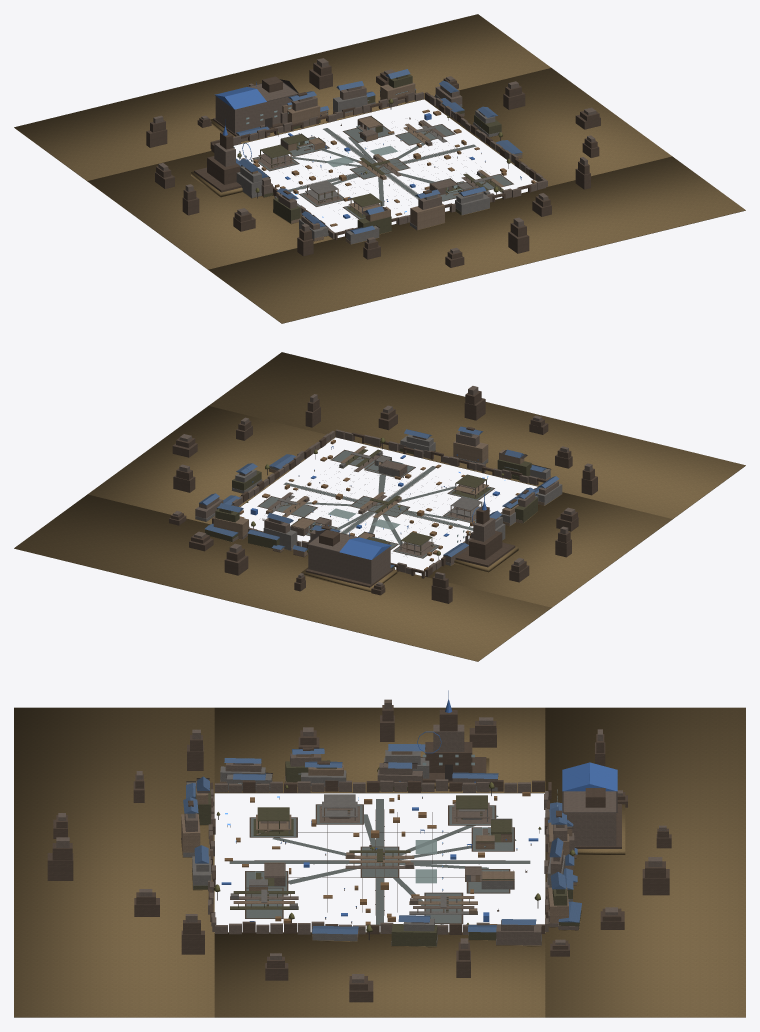
The model's file is onsengai-lod1.glb.
3 views of the same model, one above another, from view 1: azimuth 30°, elevation 25°; view 2: azimuth 150°, elevation 25°; view 3: azimuth 270°, elevation 25° (orthographic). The views are drawn at different scales.
Visible parts, largest first — view 1: HB_onsengai_LOD1_terrain, HB_onsengai_LOD1_wall_alt, HB_onsengai_LOD1_wall, HB_onsengai_LOD1_wall_cool, HB_onsengai_LOD1_road, HB_onsengai_LOD1_wall_warm, HB_onsengai_LOD1_wall_weathered, HB_onsengai_LOD1_roof, HB_onsengai_LOD1_LANDMARK_0_wall, HB_onsengai_LOD1_LANDMARK_1_wall_alt, HB_onsengai_LOD1_obstacle, HB_onsengai_LOD1_LANDMARK_0_accent; view 2: HB_onsengai_LOD1_terrain, HB_onsengai_LOD1_wall_alt, HB_onsengai_LOD1_wall, HB_onsengai_LOD1_wall_cool, HB_onsengai_LOD1_road, HB_onsengai_LOD1_wall_weathered, HB_onsengai_LOD1_wall_warm, HB_onsengai_LOD1_roof, HB_onsengai_LOD1_LANDMARK_0_wall, HB_onsengai_LOD1_LANDMARK_1_wall_alt, HB_onsengai_LOD1_obstacle, HB_onsengai_LOD1_LANDMARK_0_accent (+1 smaller); view 3: HB_onsengai_LOD1_terrain, HB_onsengai_LOD1_wall_alt, HB_onsengai_LOD1_wall, HB_onsengai_LOD1_road, HB_onsengai_LOD1_wall_cool, HB_onsengai_LOD1_wall_weathered, HB_onsengai_LOD1_roof, HB_onsengai_LOD1_wall_warm, HB_onsengai_LOD1_LANDMARK_0_wall, HB_onsengai_LOD1_LANDMARK_1_wall_alt, HB_onsengai_LOD1_LANDMARK_0_accent, HB_onsengai_LOD1_obstacle (+4 smaller).
Boxes of the visible parts, x1,y1,x2,y2 form: HB_onsengai_LOD1_terrain: (14, 14, 745, 323); HB_onsengai_LOD1_wall_alt: (146, 62, 600, 267); HB_onsengai_LOD1_wall: (153, 58, 596, 253); HB_onsengai_LOD1_wall_cool: (236, 94, 522, 244); HB_onsengai_LOD1_road: (253, 124, 512, 218); HB_onsengai_LOD1_wall_warm: (245, 82, 522, 244); HB_onsengai_LOD1_wall_weathered: (236, 74, 503, 234); HB_onsengai_LOD1_roof: (236, 69, 522, 234); HB_onsengai_LOD1_LANDMARK_0_wall: (215, 83, 297, 133); HB_onsengai_LOD1_LANDMARK_1_wall_alt: (194, 131, 241, 192); HB_onsengai_LOD1_obstacle: (241, 109, 536, 226); HB_onsengai_LOD1_LANDMARK_0_accent: (214, 81, 266, 109); HB_onsengai_LOD1_terrain: (14, 352, 745, 661); HB_onsengai_LOD1_wall_alt: (169, 390, 597, 603); HB_onsengai_LOD1_wall: (173, 386, 592, 586); HB_onsengai_LOD1_wall_cool: (195, 431, 562, 565); HB_onsengai_LOD1_road: (257, 450, 493, 558); HB_onsengai_LOD1_wall_weathered: (205, 448, 537, 568); HB_onsengai_LOD1_wall_warm: (213, 440, 550, 556); HB_onsengai_LOD1_roof: (199, 426, 559, 567); HB_onsengai_LOD1_LANDMARK_0_wall: (308, 531, 390, 584); HB_onsengai_LOD1_LANDMARK_1_wall_alt: (455, 506, 515, 567); HB_onsengai_LOD1_obstacle: (239, 439, 519, 571); HB_onsengai_LOD1_LANDMARK_0_accent: (339, 532, 391, 559); HB_onsengai_LOD1_terrain: (14, 707, 745, 1017); HB_onsengai_LOD1_wall_alt: (47, 705, 671, 1002); HB_onsengai_LOD1_wall: (56, 699, 666, 982); HB_onsengai_LOD1_road: (229, 799, 530, 925); HB_onsengai_LOD1_wall_cool: (183, 750, 572, 946); HB_onsengai_LOD1_wall_weathered: (193, 760, 581, 946); HB_onsengai_LOD1_roof: (183, 744, 581, 934); HB_onsengai_LOD1_wall_warm: (181, 751, 576, 940); HB_onsengai_LOD1_LANDMARK_0_wall: (563, 791, 616, 846); HB_onsengai_LOD1_LANDMARK_1_wall_alt: (420, 710, 486, 782); HB_onsengai_LOD1_LANDMARK_0_accent: (562, 762, 617, 791); HB_onsengai_LOD1_obstacle: (224, 792, 530, 925).
Size of the model in its own units: 620 by 81.2 by 620.
15 materials, 12 textured.
